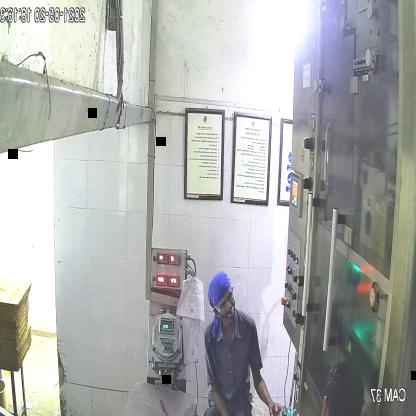goggles: (215, 284, 237, 314)
